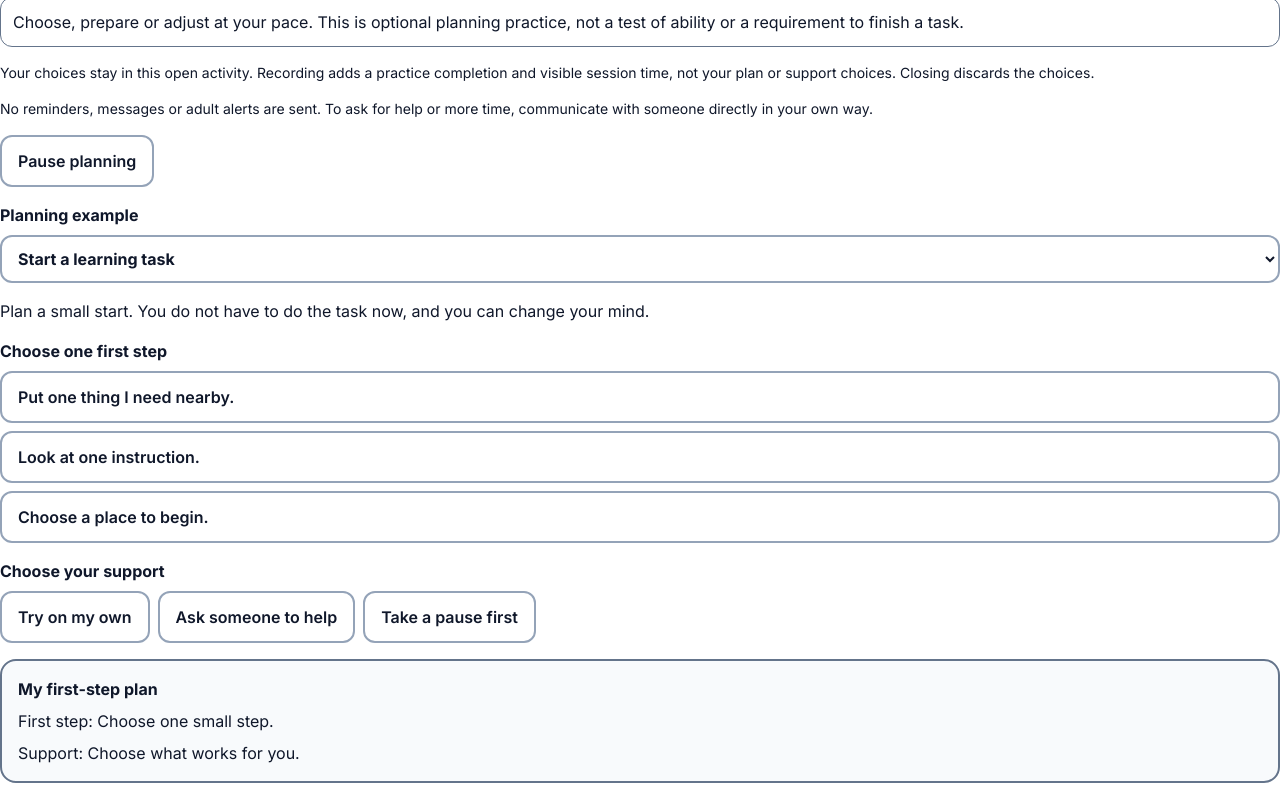
Test: First Step Planner › clears review after changing the first step or support
Click the button "Look at one instruction.": (109, 457) [0,431,1279,483]
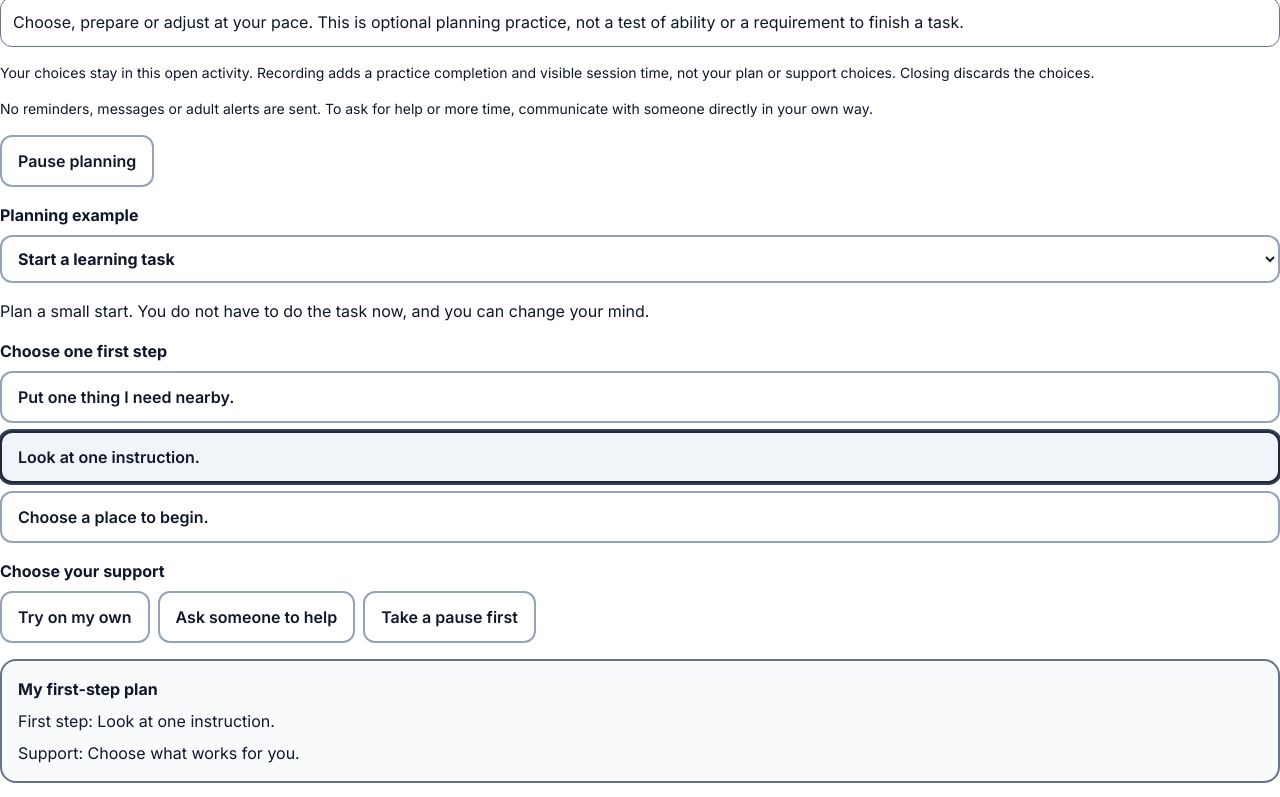
Click the button "Ask someone to help": (256, 617) [158,591,355,643]
(page scrolled)
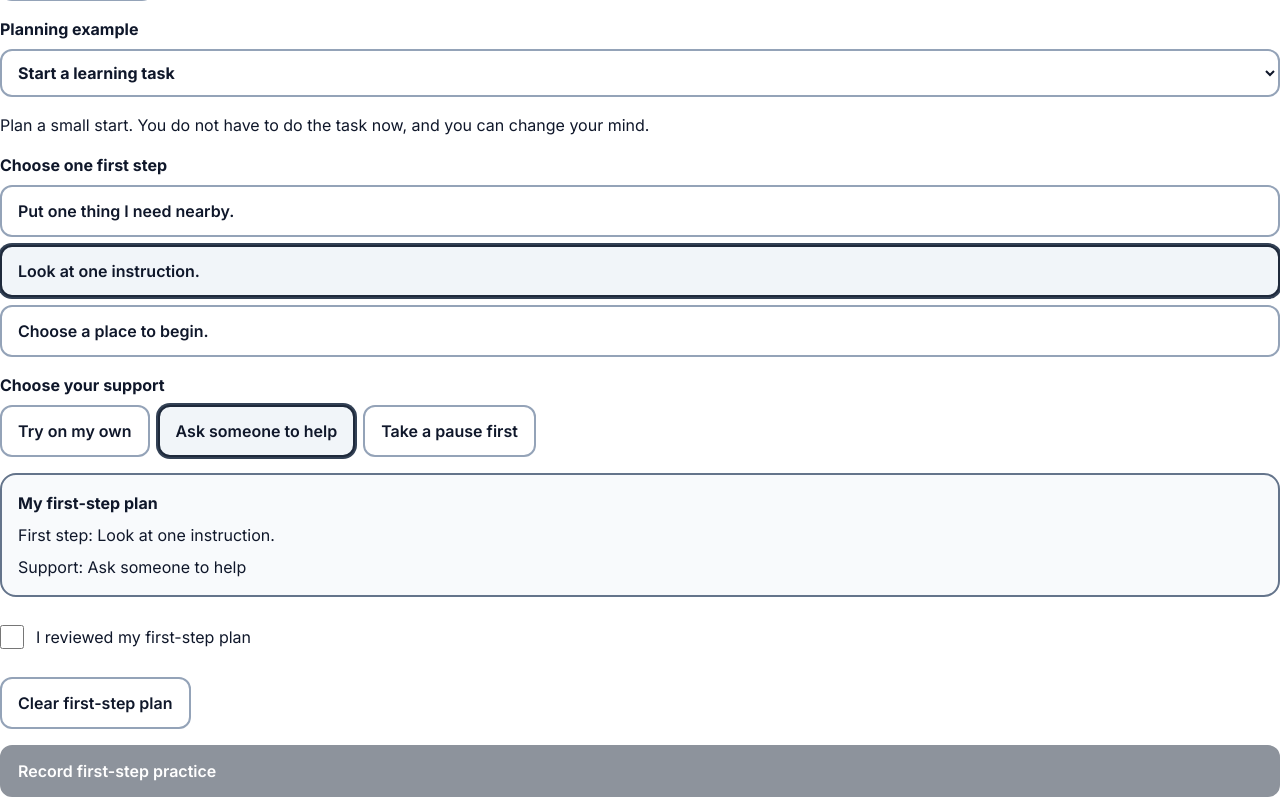
Click the checkbox: (12, 637) [0,625,24,649]
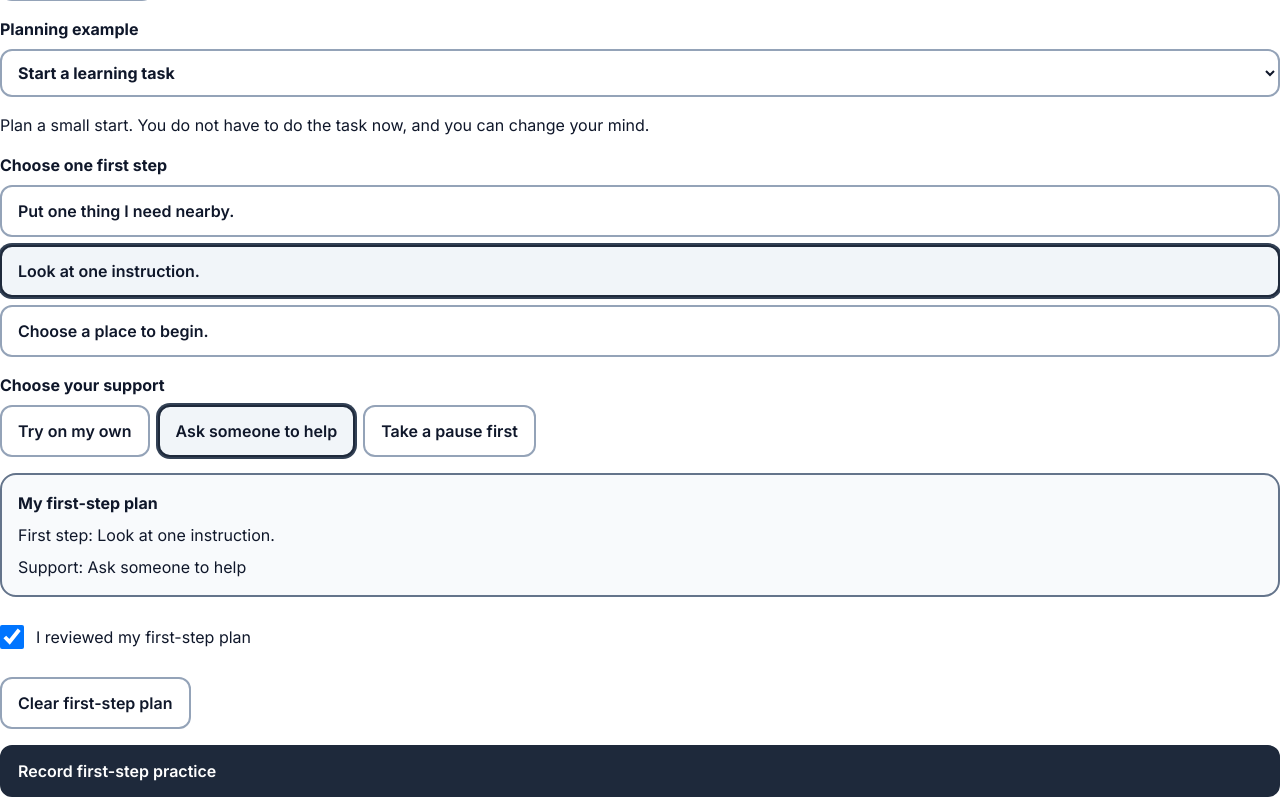
Click the button "Choose a place to begin.": (113, 331) [0,305,1279,357]
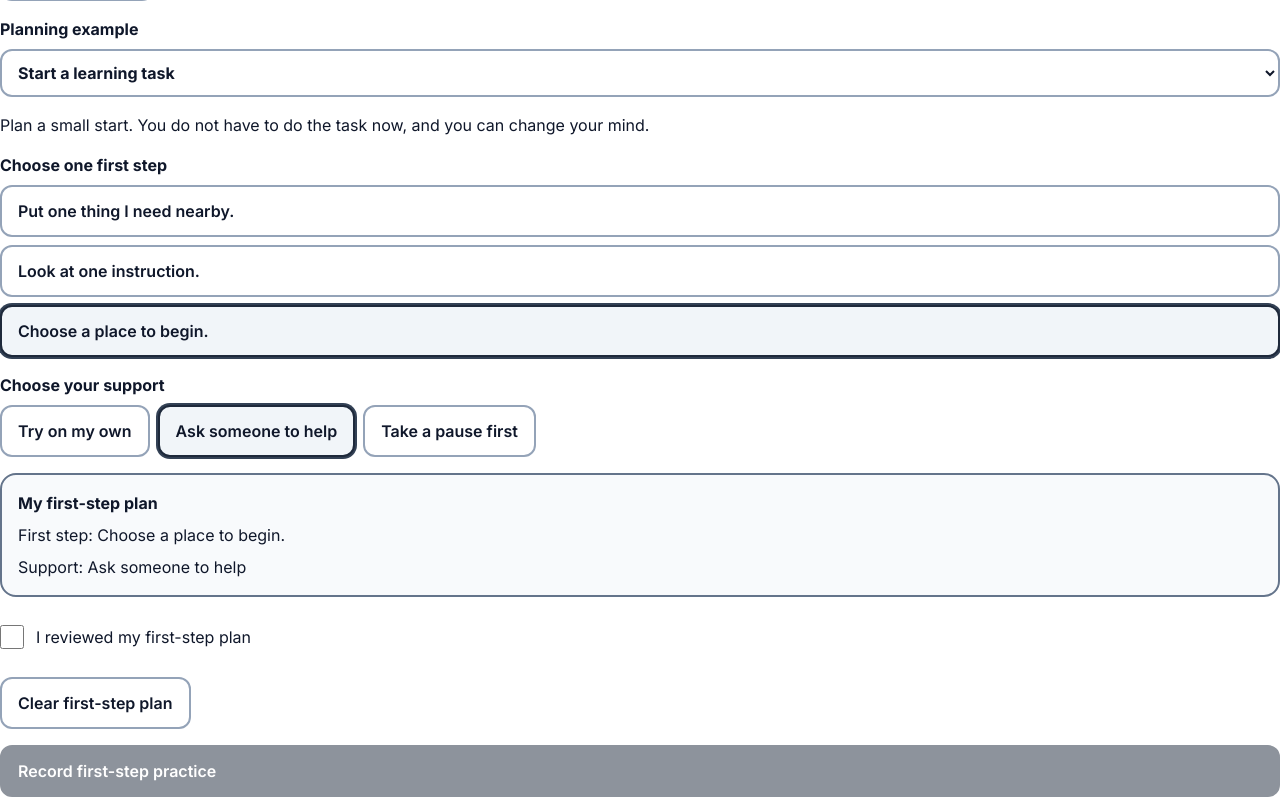
Result: the checkbox is not checked
Click the checkbox: (12, 637) [0,625,24,649]
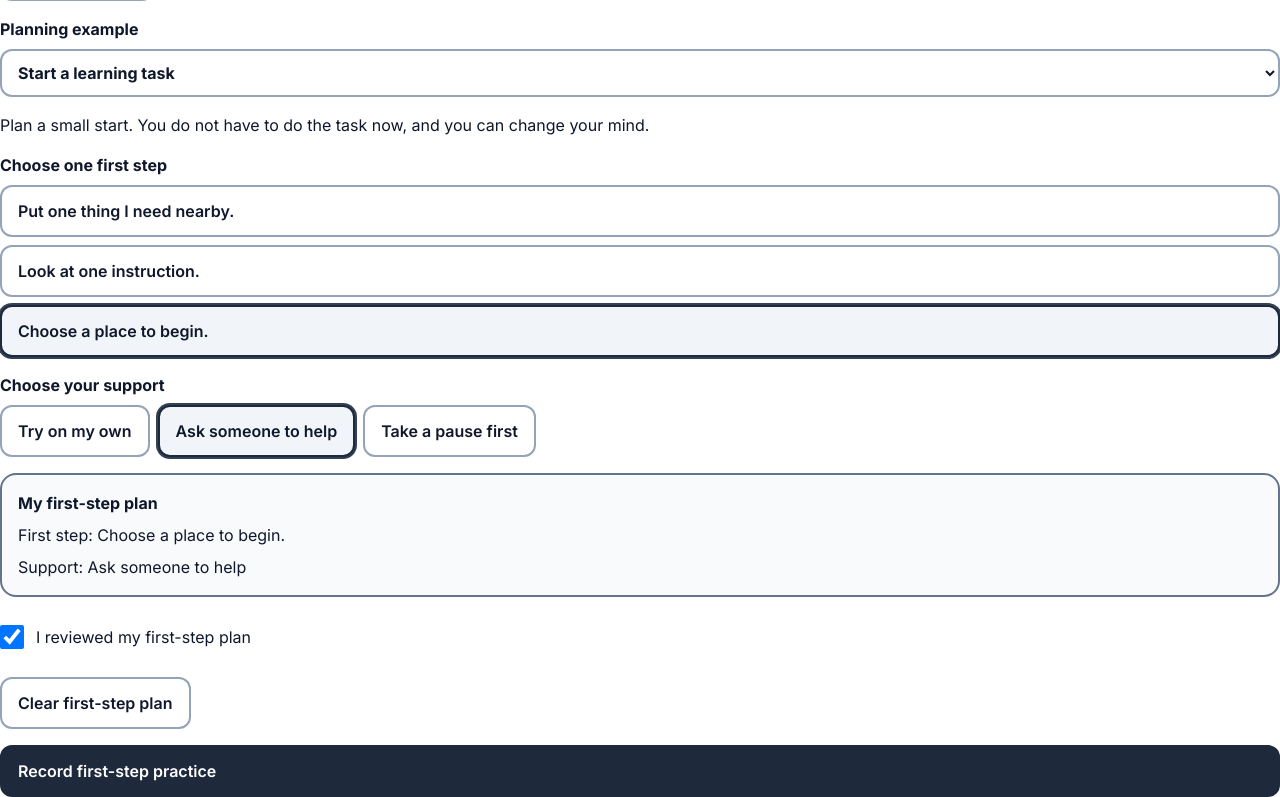
Click the button "Take a pause first": (450, 431) [363,405,536,457]
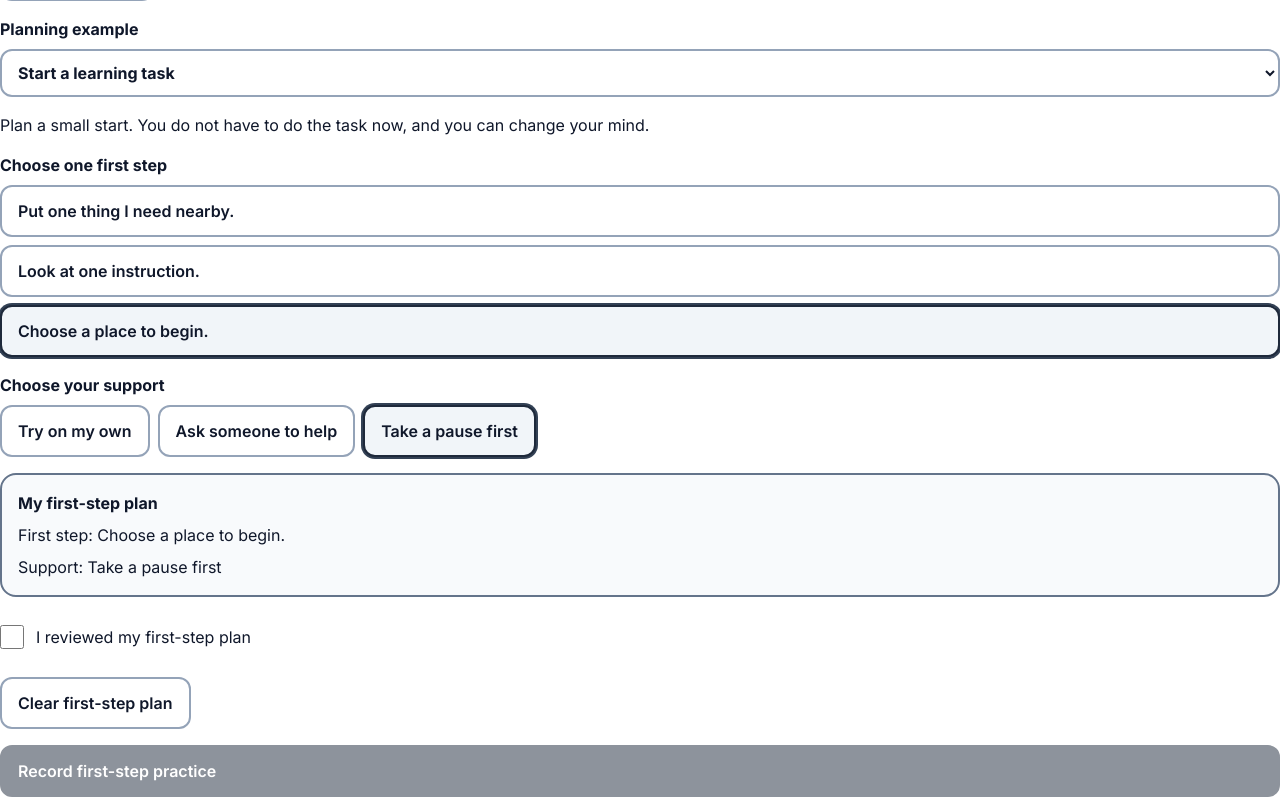
Result: the checkbox is not checked at [0,625,24,649]
Result: the button "Record first-step practice" is disabled at [0,745,1279,796]
